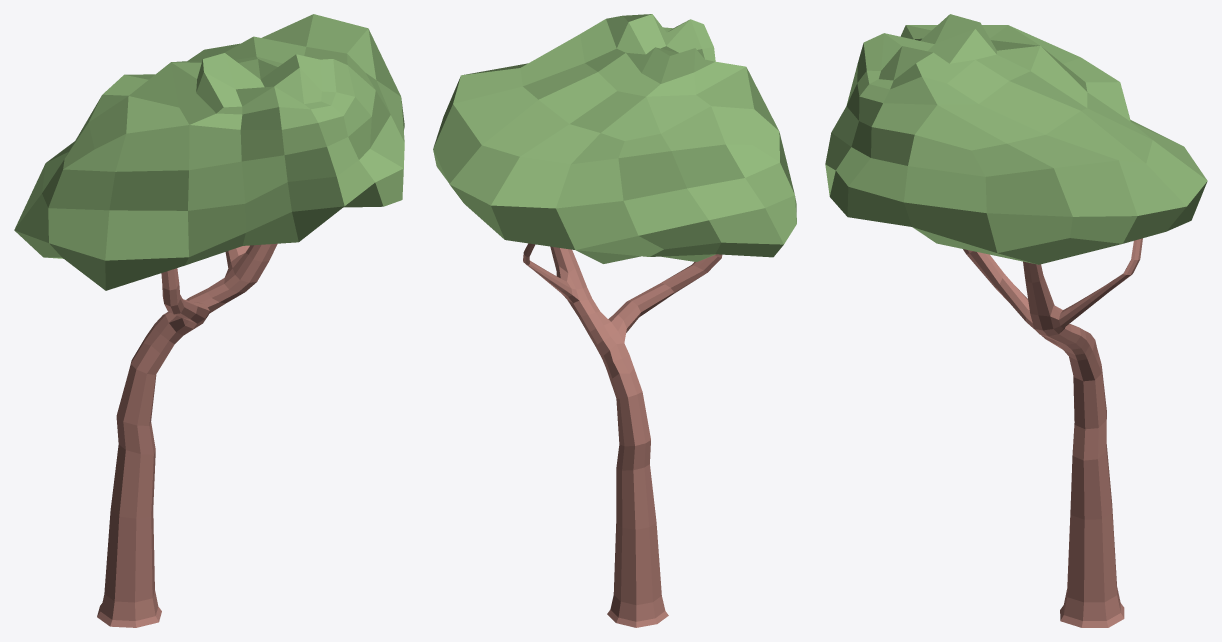
The model's file is orange_bare.glb.
The picture shows the model from 3 angles, left to right: view 1: azimuth 30°, elevation 25°; view 2: azimuth 150°, elevation 25°; view 3: azimuth 270°, elevation 25°; orthographic projection. The views are drawn at different scales.
Parts seen in each view (by area): view 1: Orange_Harvested; view 2: Orange_Harvested; view 3: Orange_Harvested.
Part boxes in pixels (left/top/right/bottom): Orange_Harvested: left=14, top=14, right=404, bottom=627; Orange_Harvested: left=433, top=14, right=796, bottom=627; Orange_Harvested: left=825, top=14, right=1207, bottom=627.
Bounding box in the file's own units: 1.8 × 2.76 × 1.58.
